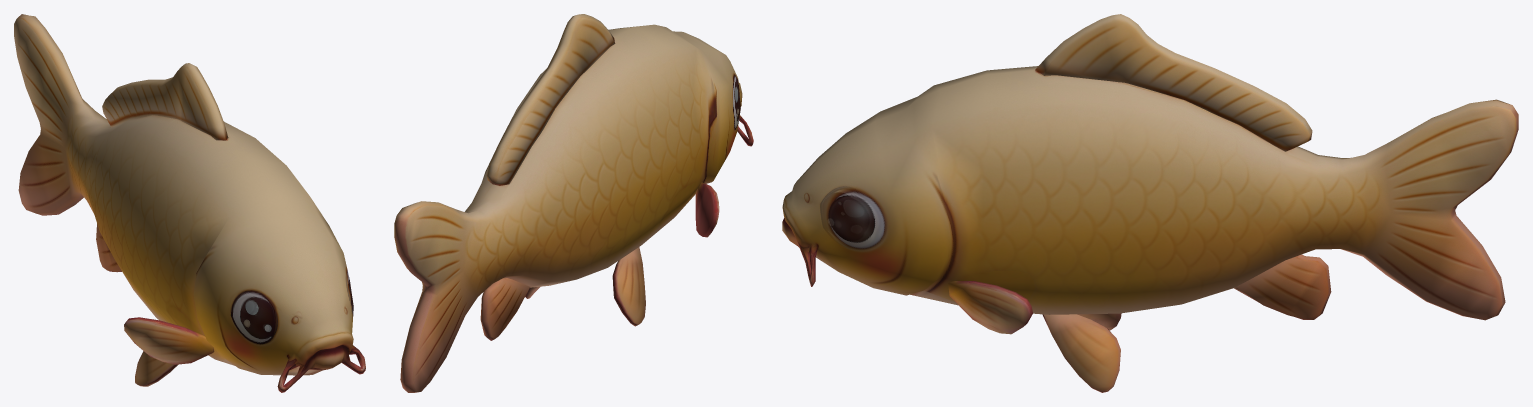
The model's file is Common_Carp_01.fbx.
3 views of the same model, side by side, from view 1: azimuth 30°, elevation 25°; view 2: azimuth 150°, elevation 25°; view 3: azimuth 270°, elevation 25° (orthographic). The views are drawn at different scales.
Parts seen in each view (by area): view 1: Common_Carp_01; view 2: Common_Carp_01; view 3: Common_Carp_01.
Boxes of the visible parts, x1,y1,x2,y2 form: Common_Carp_01: [14, 14, 365, 392]; Common_Carp_01: [394, 14, 753, 392]; Common_Carp_01: [782, 14, 1518, 392].
Bounding box in the file's own units: 37.3 × 52.15 × 99.8.
